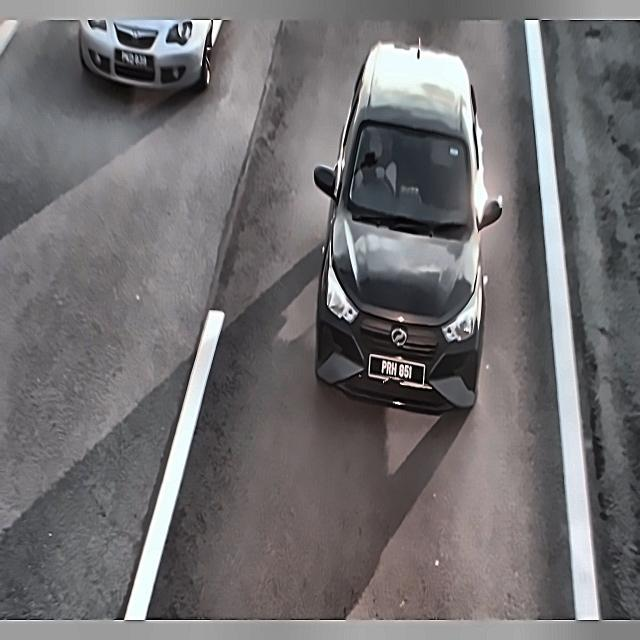car: (366, 334, 430, 401), (109, 38, 158, 79)
